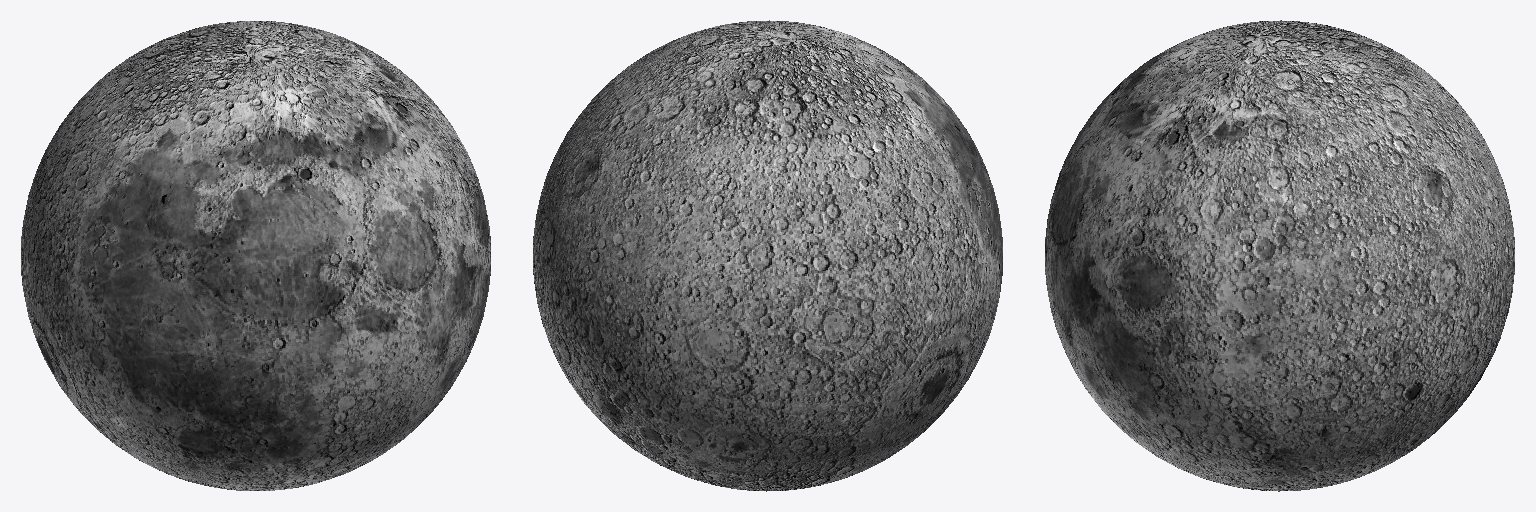
3 renders of one model, left to right at view 1: azimuth 30°, elevation 25°; view 2: azimuth 150°, elevation 25°; view 3: azimuth 270°, elevation 25°, orthographic.
Visible parts, largest first — view 1: Sphere; view 2: Sphere; view 3: Sphere.
Boxes of the visible parts, x1,y1,x2,y2 form: Sphere: [21, 21, 490, 490]; Sphere: [533, 20, 1002, 491]; Sphere: [1045, 20, 1514, 491].
Bounding box in the file's own units: 5.45 × 5.45 × 5.45.
1 materials, 1 textured.